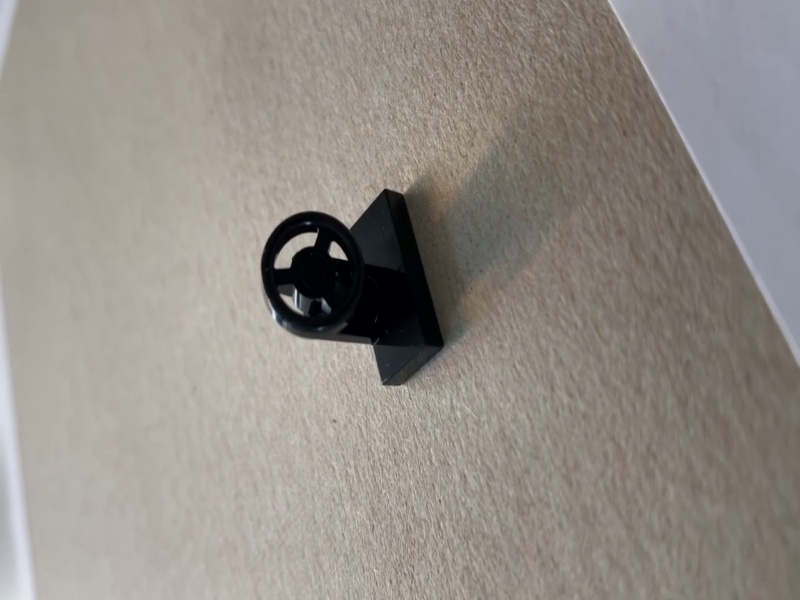steering wheel: (262, 189, 445, 387)
